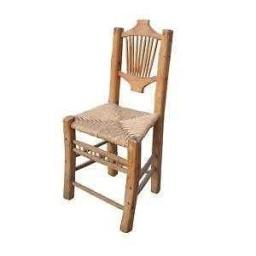Chair: (64, 18, 172, 231)
